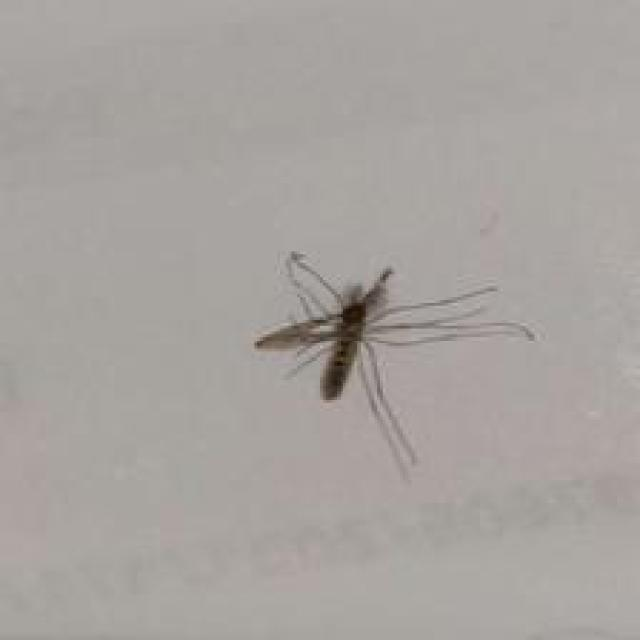Culex: (253, 248, 536, 483)
